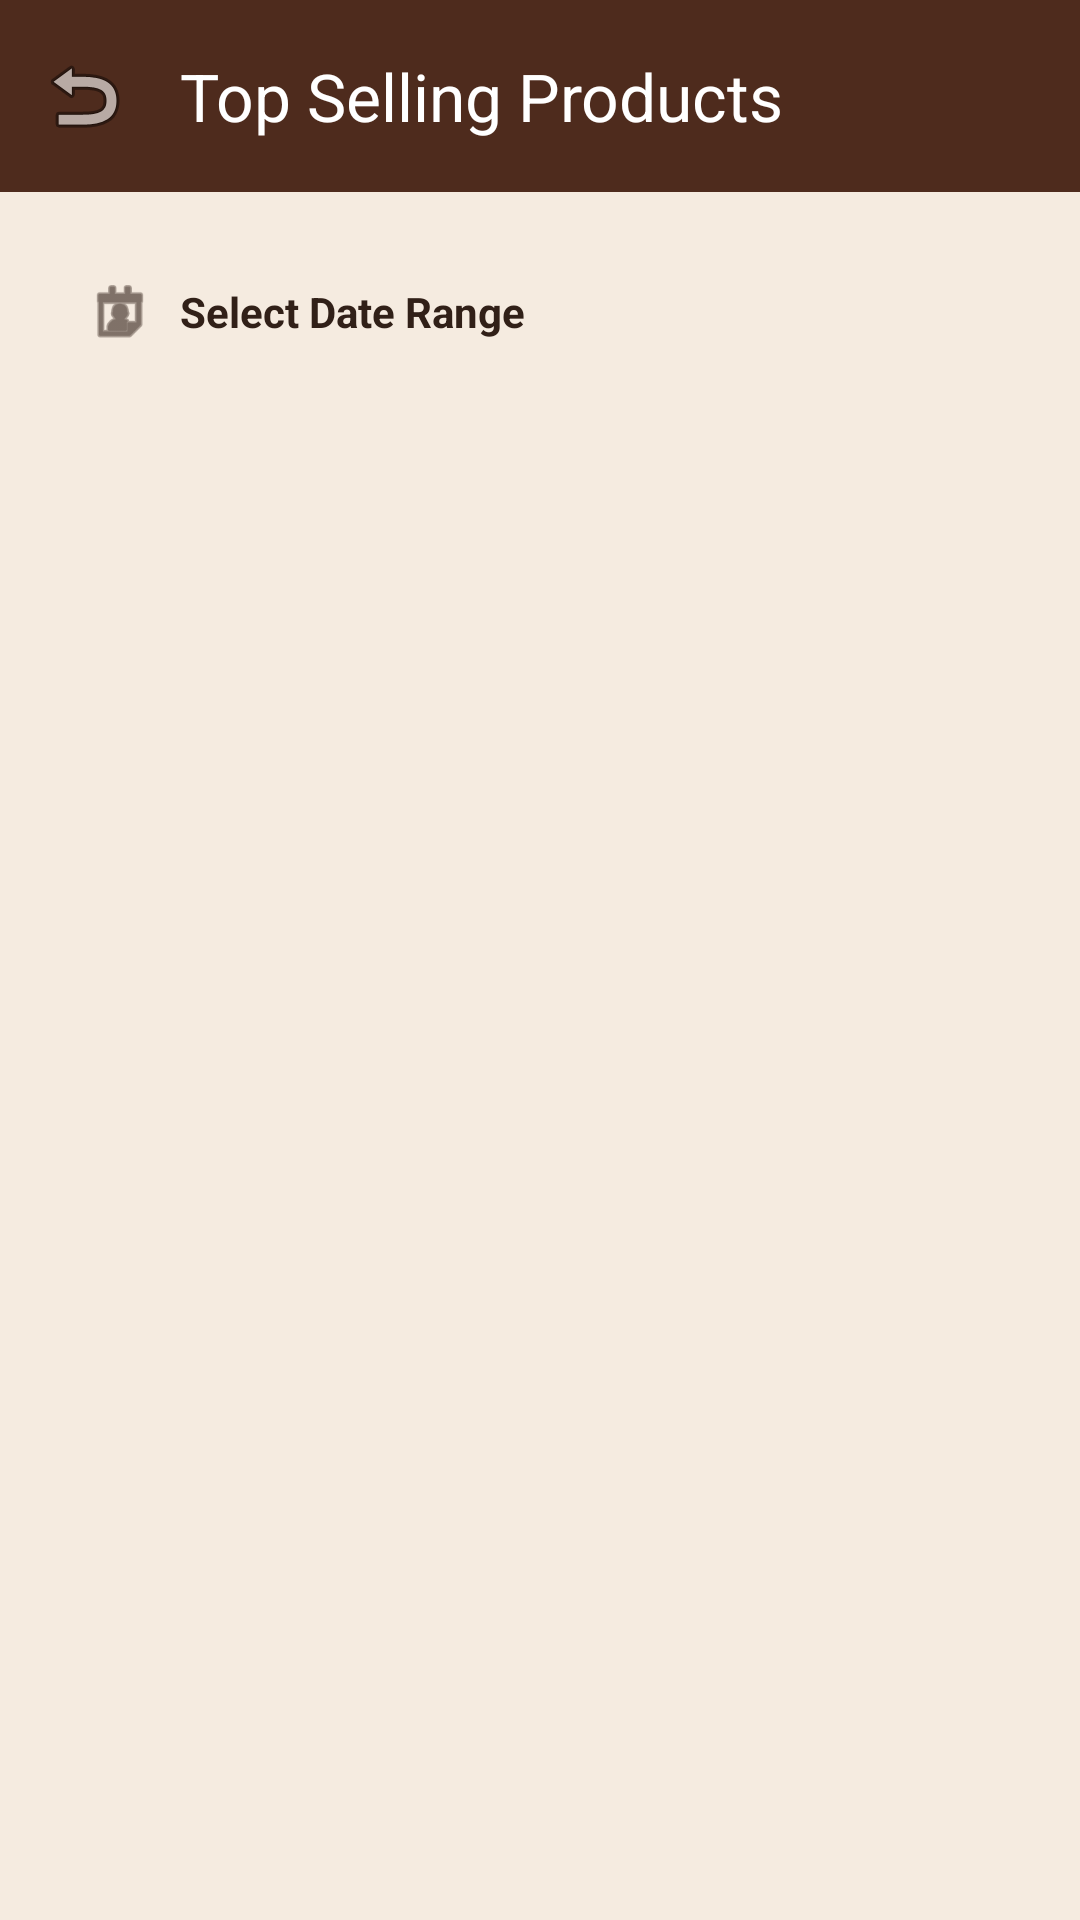

Point at icon controls on the screen. Image size 1080w x 1920h, points as (x=x, y=y).
calendar: (x=120, y=311)
